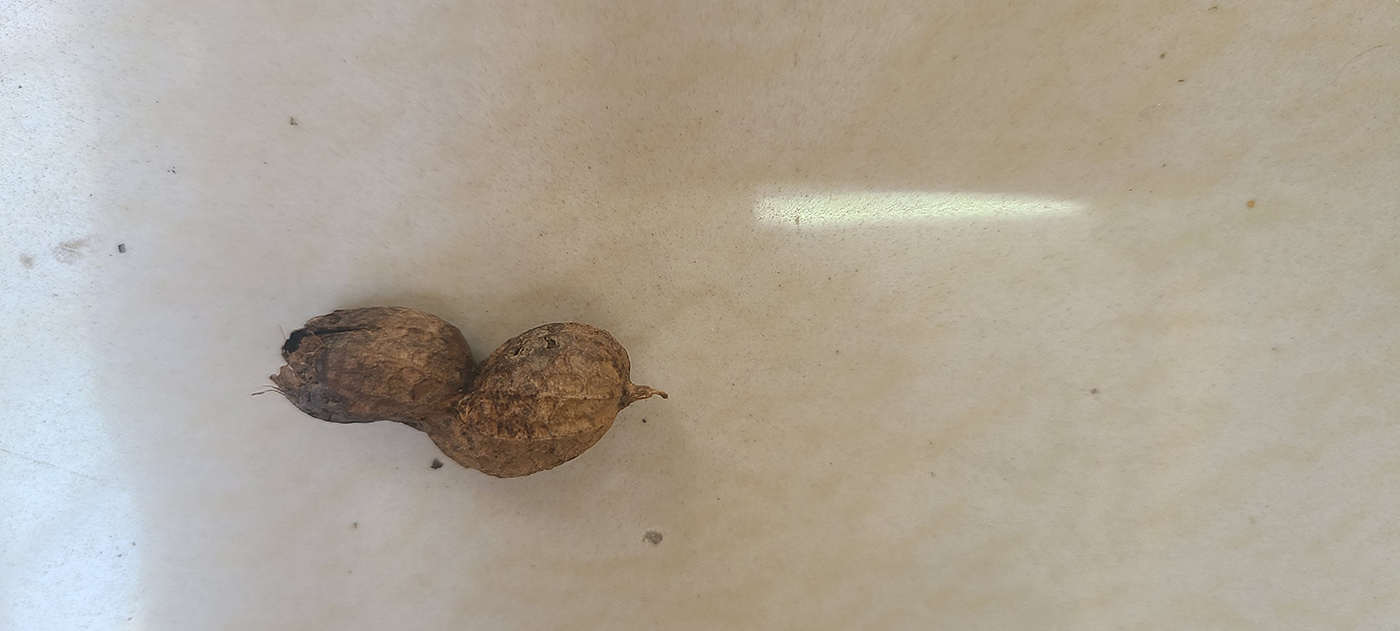l: (266, 302, 639, 479)
